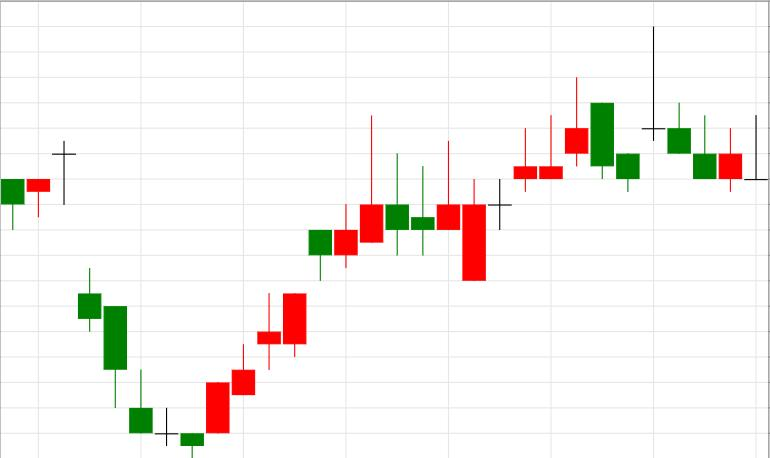shooting_star_fall: (206, 115, 383, 432), (463, 77, 589, 281)
